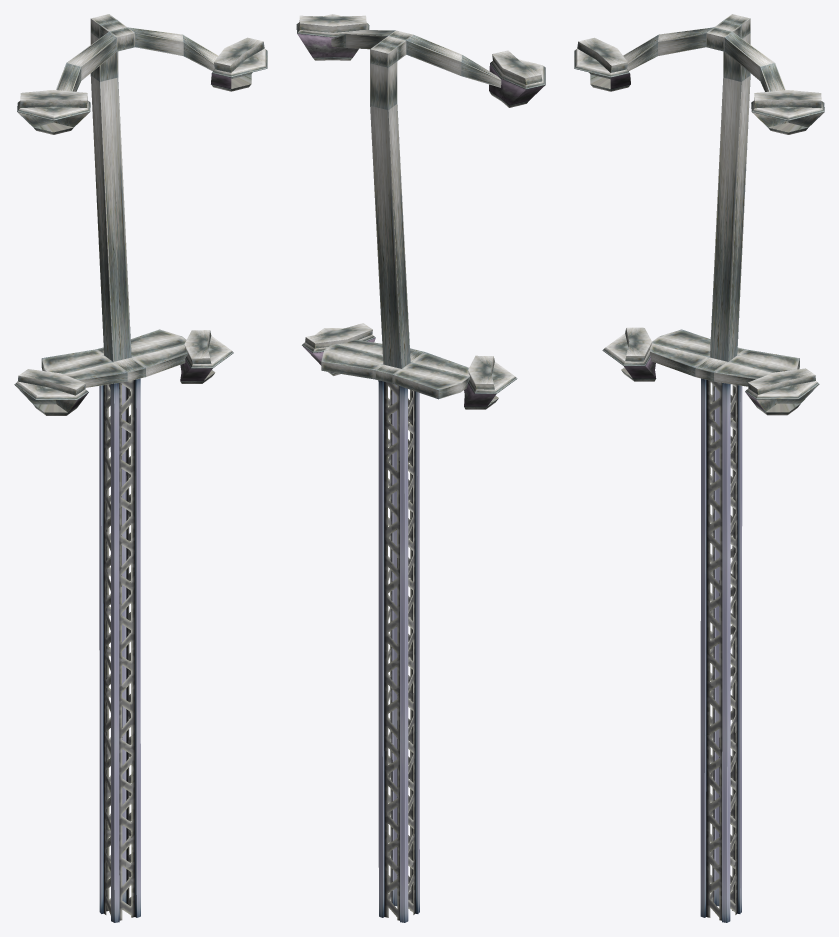
The model's file is mast.DAE.
The picture shows the model from 3 angles, left to right: view 1: azimuth 30°, elevation 25°; view 2: azimuth 150°, elevation 25°; view 3: azimuth 330°, elevation 25°; orthographic projection.
Visible parts, largest first — view 1: Object06; view 2: Object06; view 3: Object06.
Boxes of the visible parts, bbox=[...] form: Object06: bbox=[14, 14, 267, 922]; Object06: bbox=[296, 14, 545, 922]; Object06: bbox=[574, 14, 824, 922].
Size of the model in its own units: 9.22 by 31.06 by 3.86.
